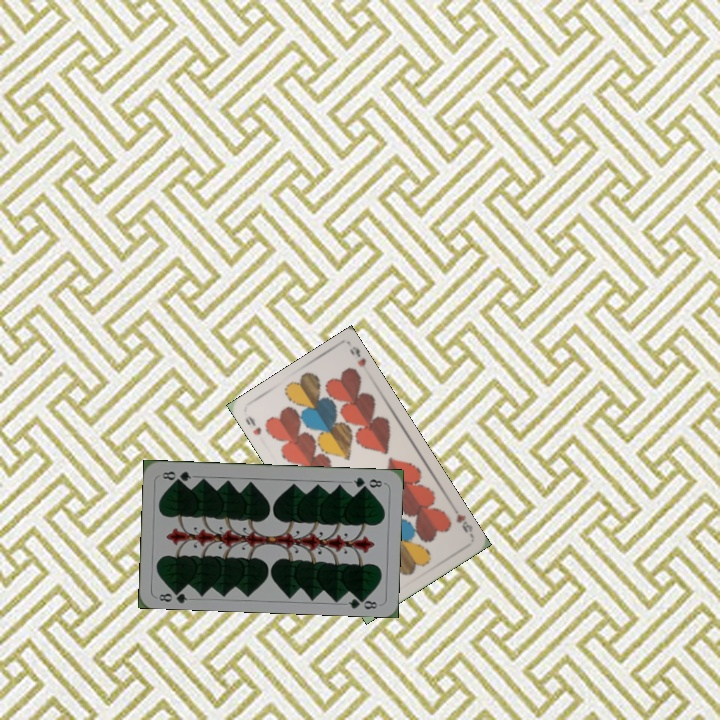G8: (155, 585, 190, 605), (349, 473, 385, 491)
H9: (448, 501, 475, 535), (241, 412, 264, 438)
